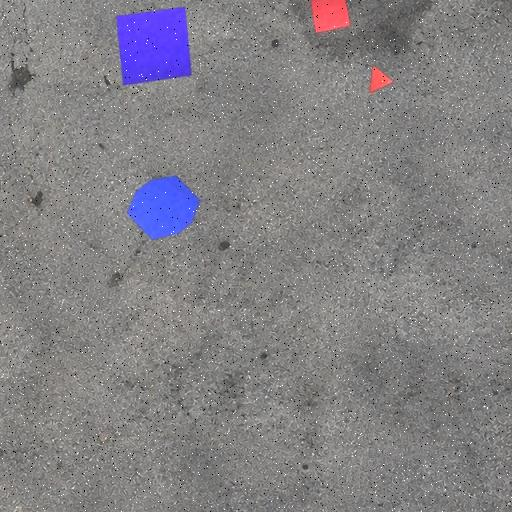BLUE_SQUARE: (116, 6, 193, 86)
RED_SQUARE: (309, 0, 351, 34)
